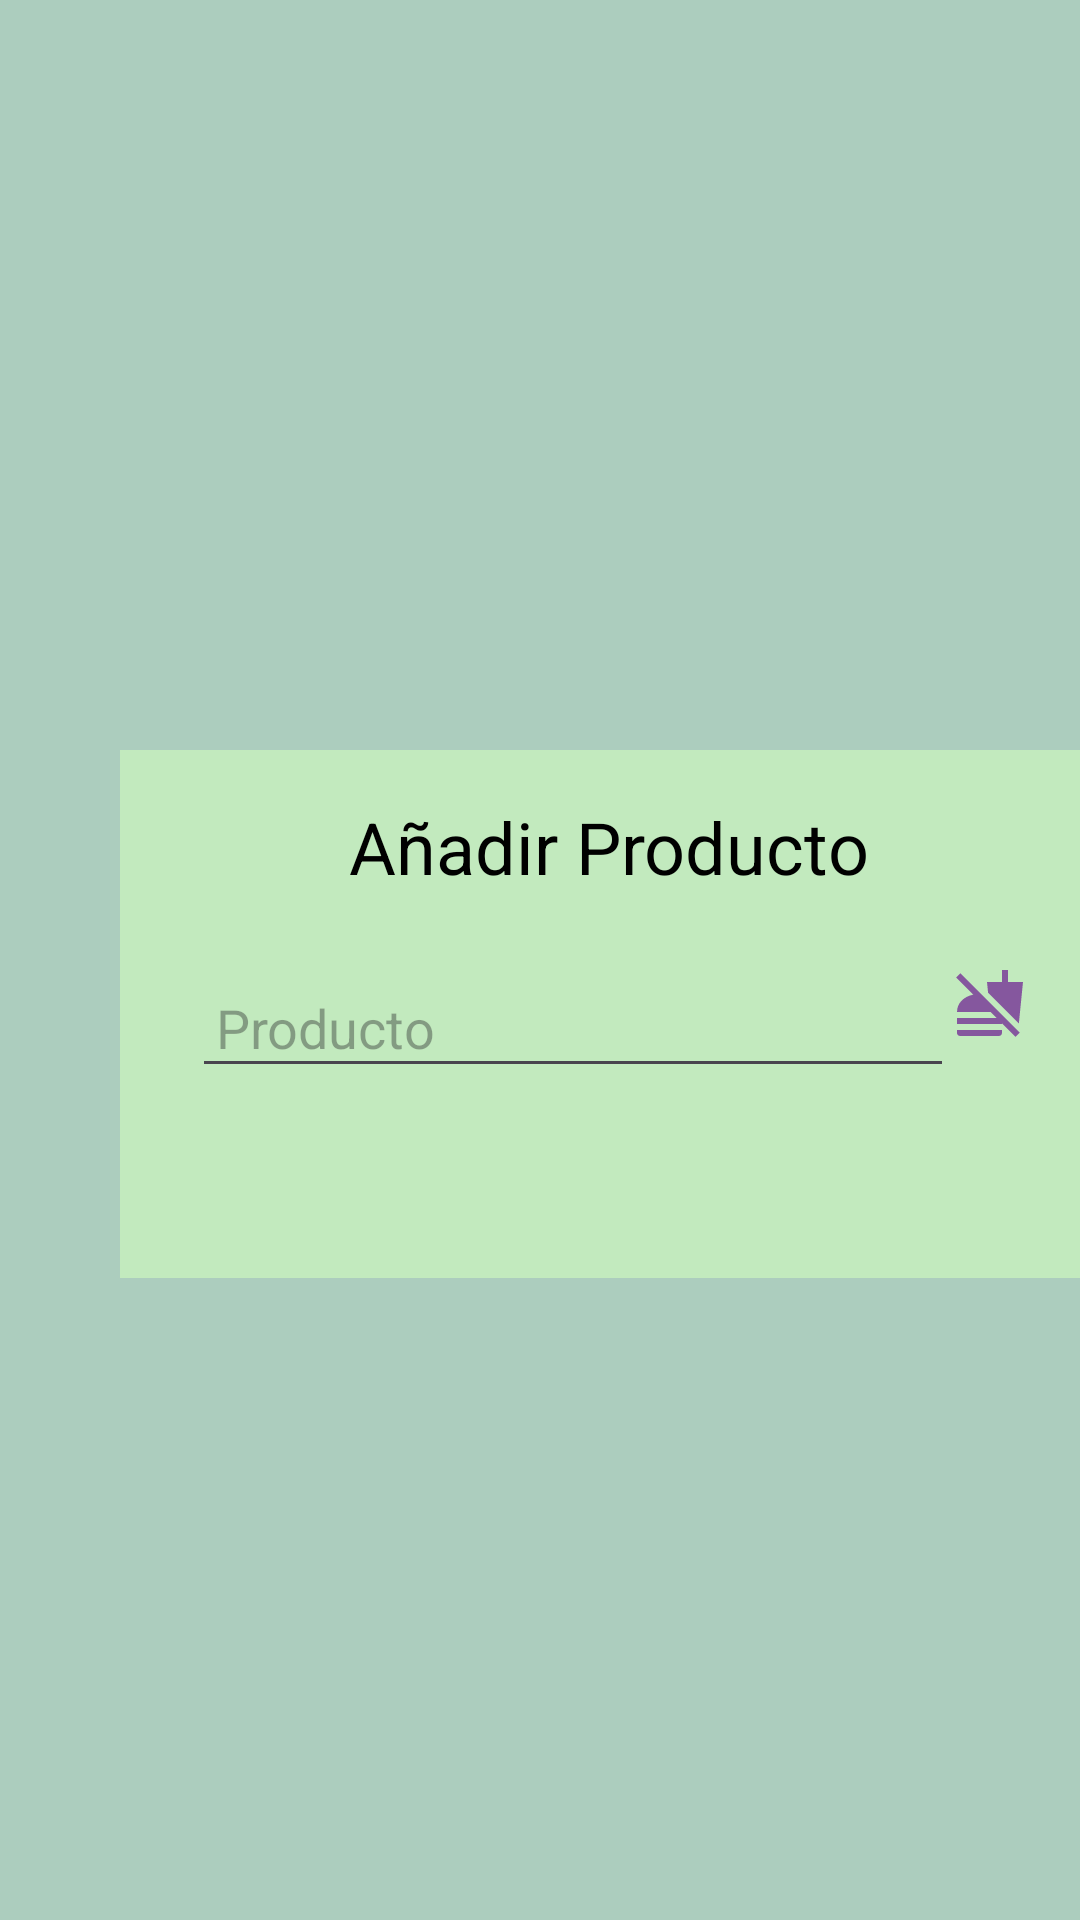

Icon bounding boxes for this 1080 × 1920 phone screenshot, format (x1, y1, x2, y2):
food: (956, 970, 1023, 1037)
